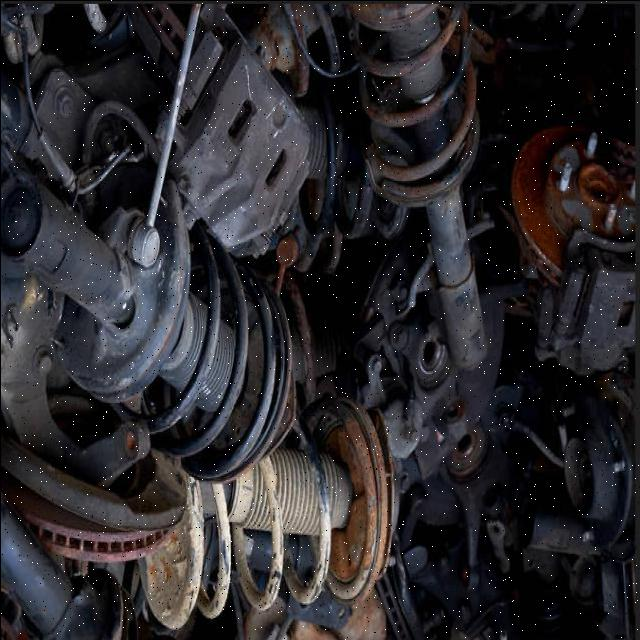shock absorber: (1, 172, 294, 481), (130, 393, 394, 630), (342, 1, 488, 373)
